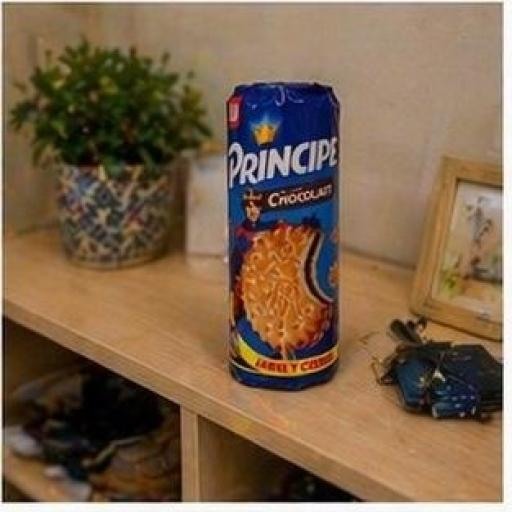prince: (127, 46, 430, 451)
